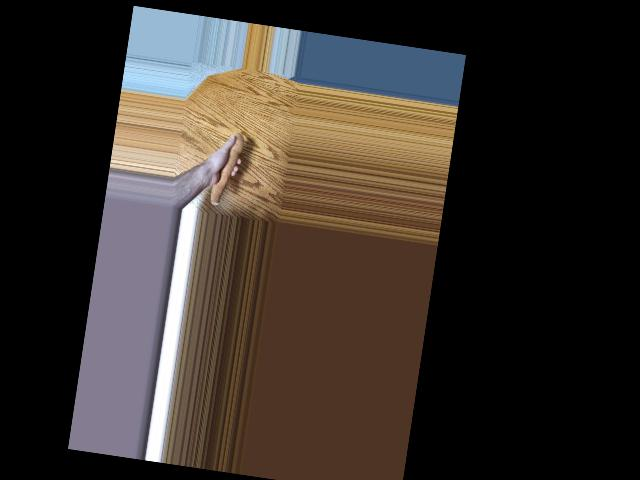sweet_potato: (208, 130, 245, 208)
